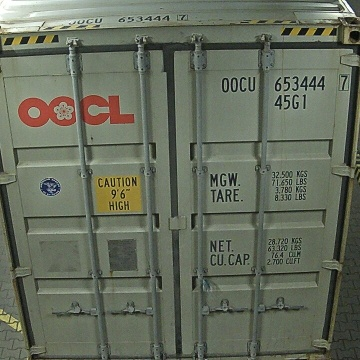serial_id: (222, 74, 349, 92)
